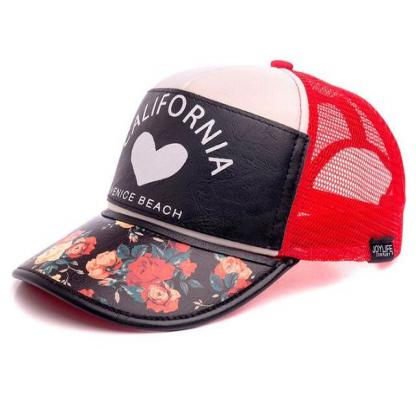cap: (9, 59, 408, 340)
